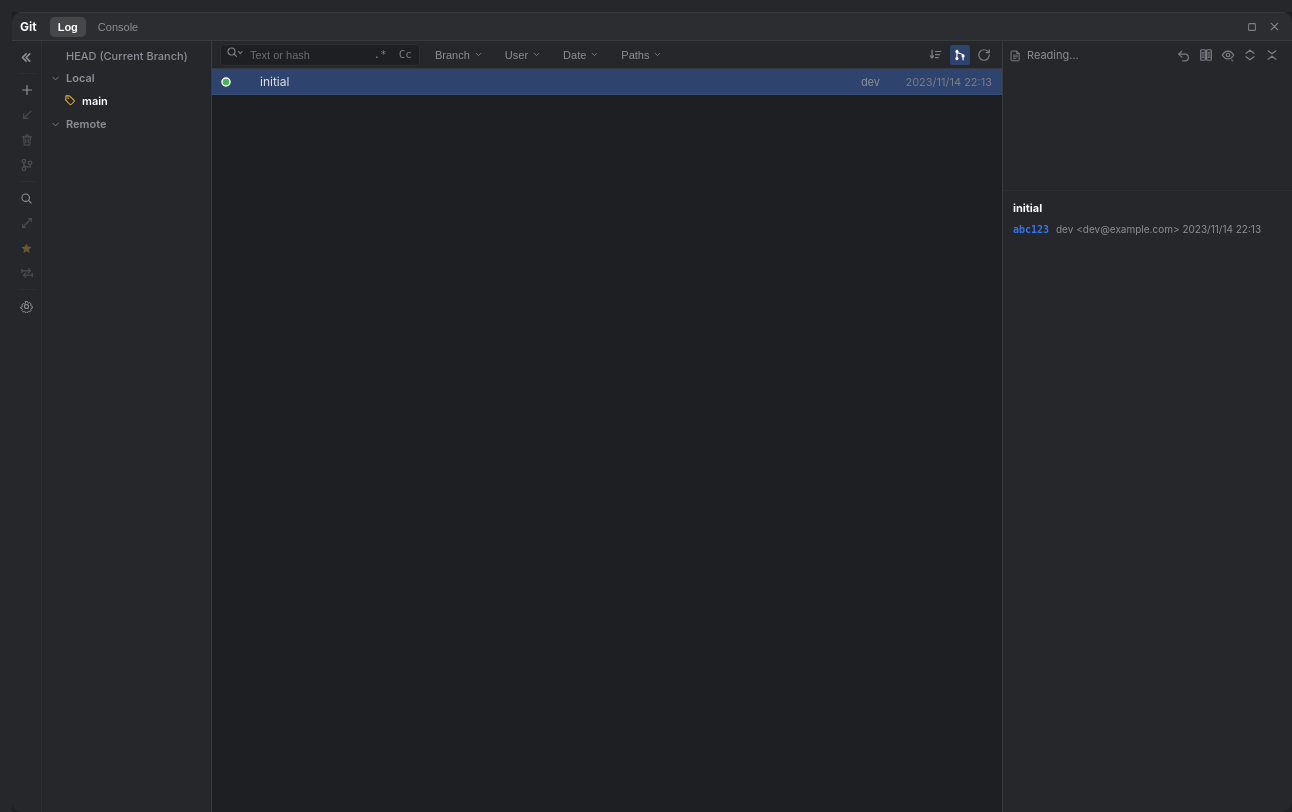
Test: GitBottomPanel branch tree › hides the branch list pane while keeping the action strip
The image size is (1292, 812).
What coordinates should you click on to do the following:
click the button titled "Hide Branches Pane"
I would click on:
 (26, 57)
Its box is [14, 45, 38, 69].
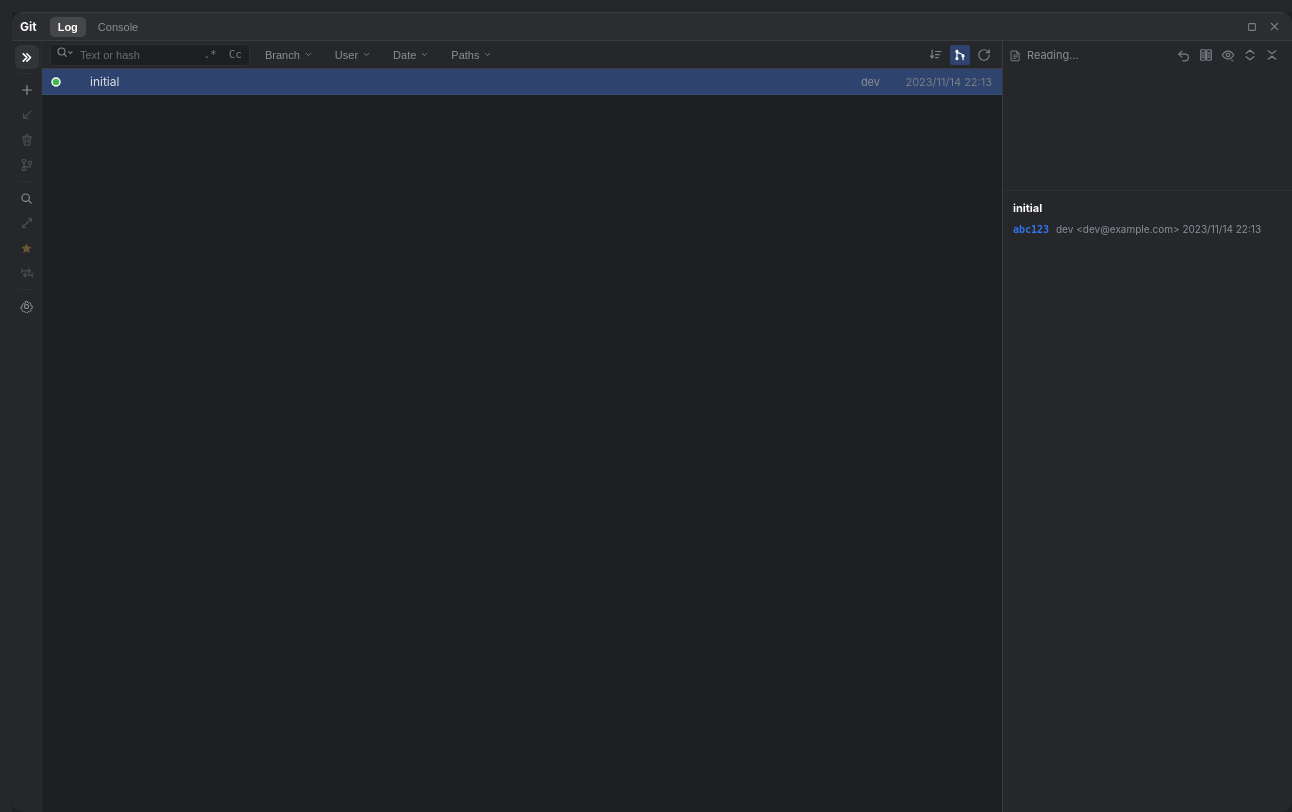
Now the text "HEAD (Current Branch)" is gone
Now the button titled "Show Branches Pane" is shown
What coordinates should you click on to do the following:
click the button titled "Show Branches Pane"
I would click on:
 (26, 57)
Its box is [14, 45, 38, 69].
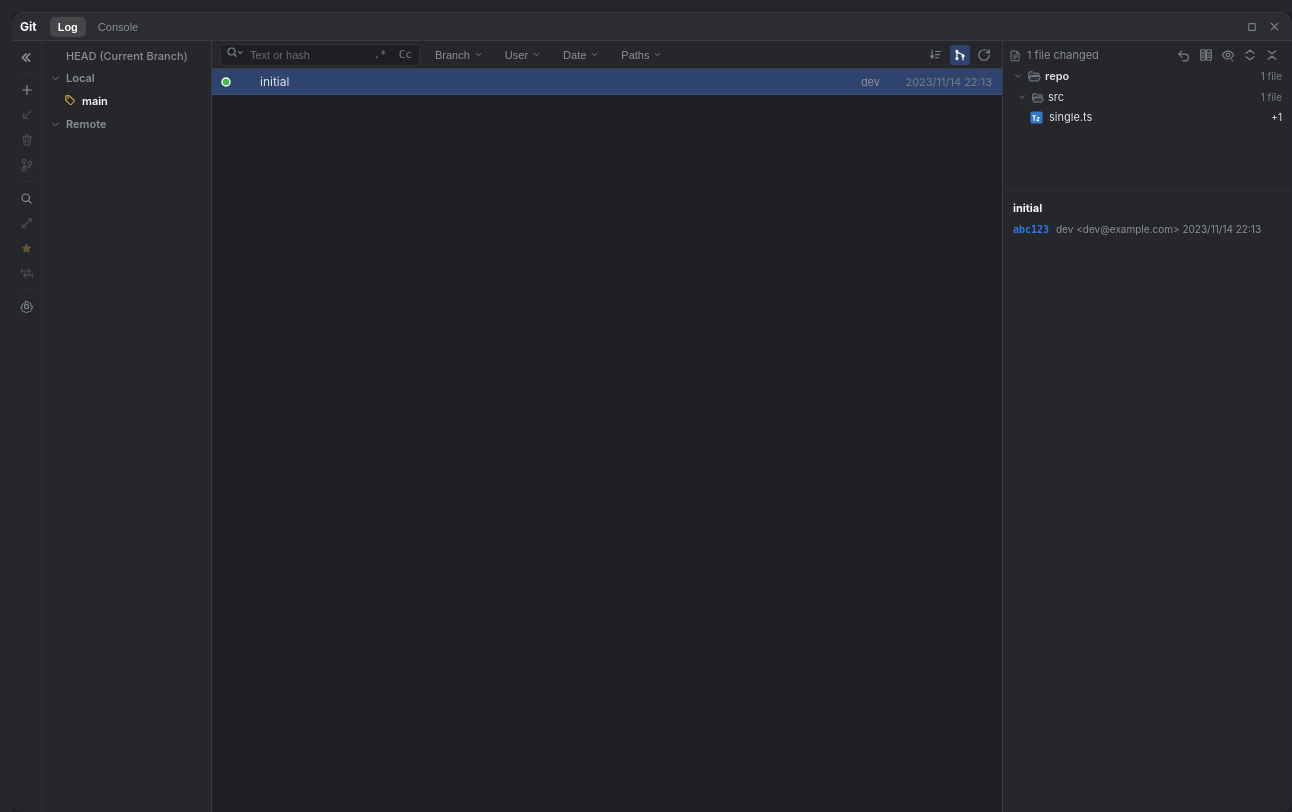
Now the text "HEAD (Current Branch)" is shown, box [66, 49, 188, 63]
